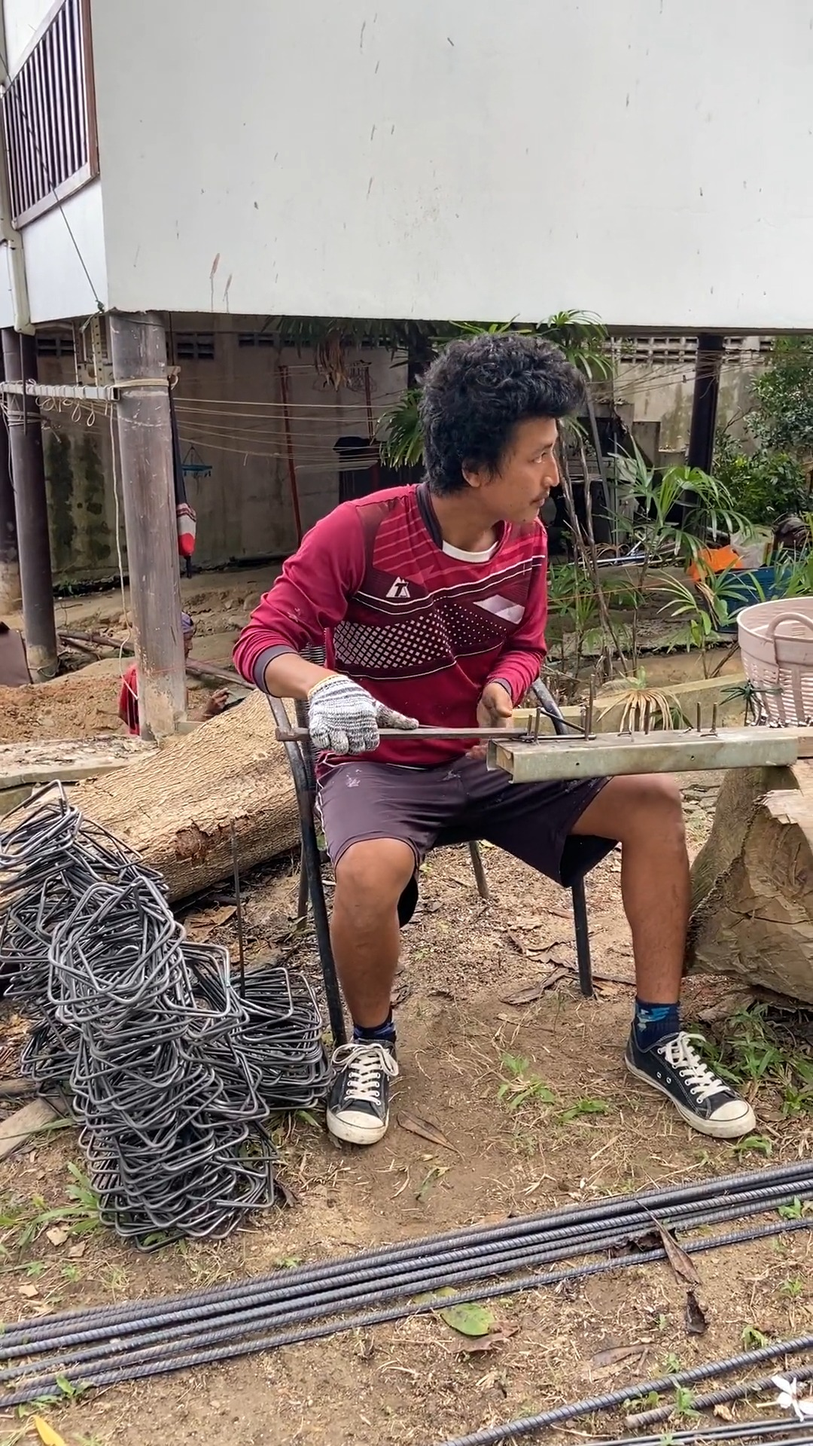No-gloves: (477, 668, 528, 782)
gloves: (294, 663, 464, 785)
